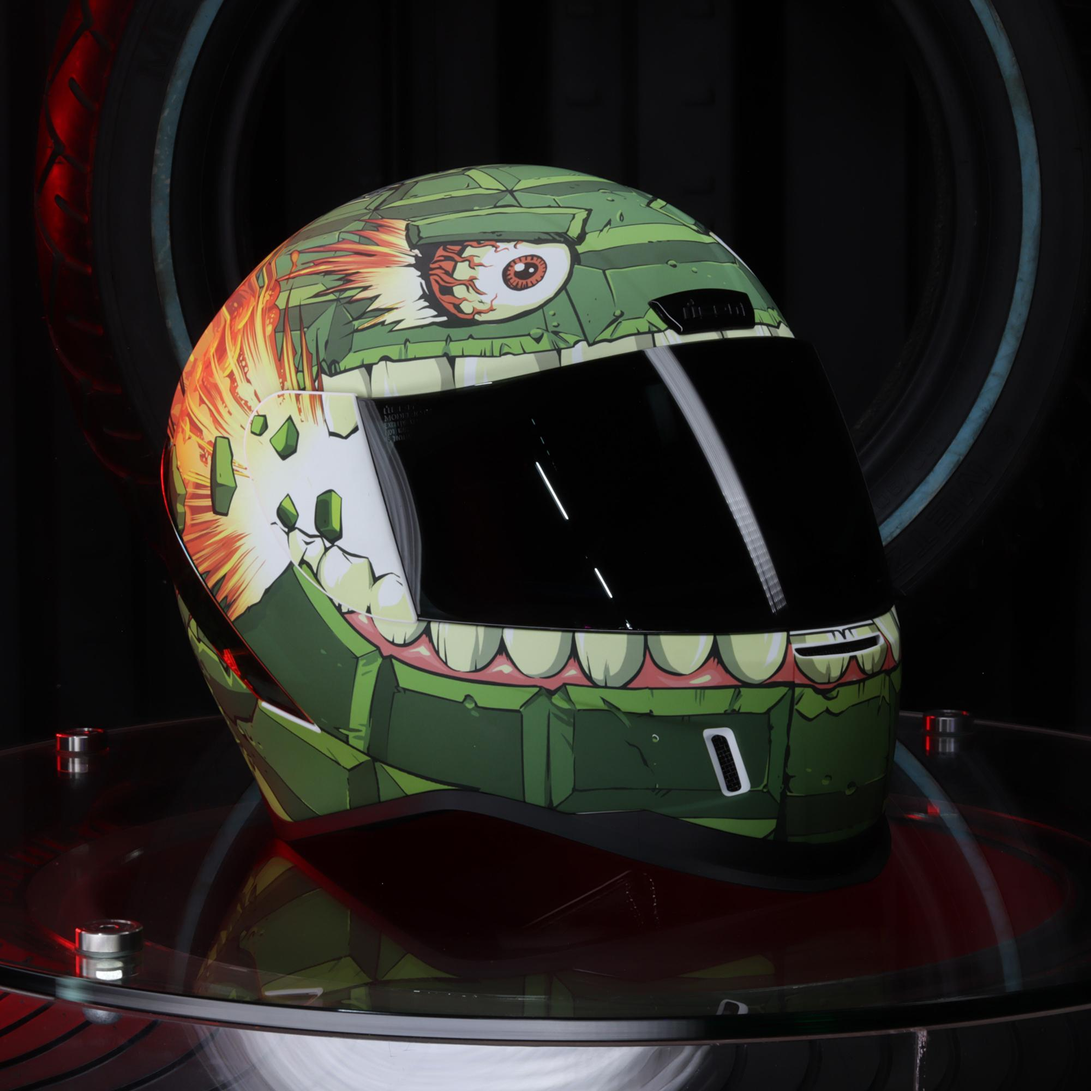helmet: (153, 158, 905, 899)
